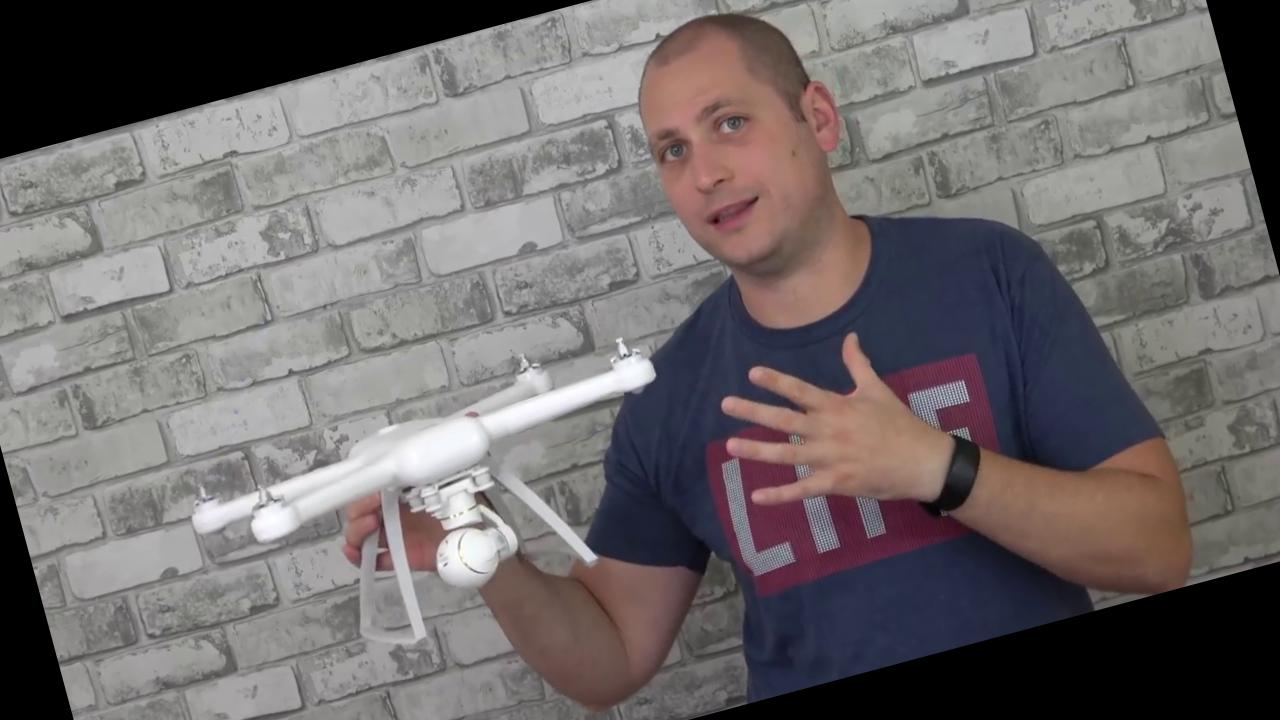drone: (157, 312, 692, 570)
